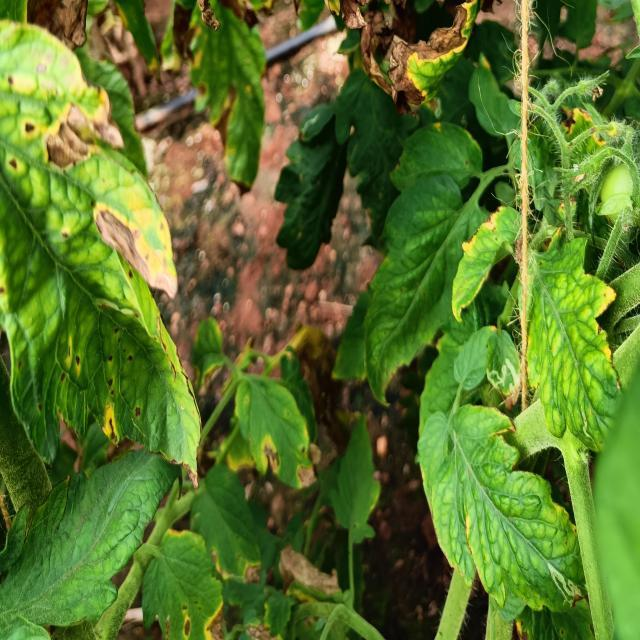Early Blight: (0, 23, 207, 489), (139, 529, 232, 640), (234, 370, 319, 490)
